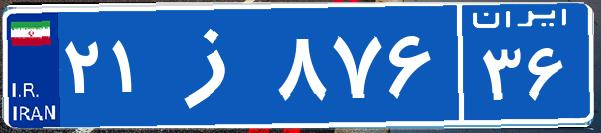1: (110, 28, 158, 105)
2: (57, 26, 110, 107)
3: (475, 38, 525, 113)
6: (385, 28, 445, 110), (525, 38, 570, 115)
7: (330, 28, 385, 110)
8: (273, 28, 330, 110)
ز: (158, 15, 273, 115)
